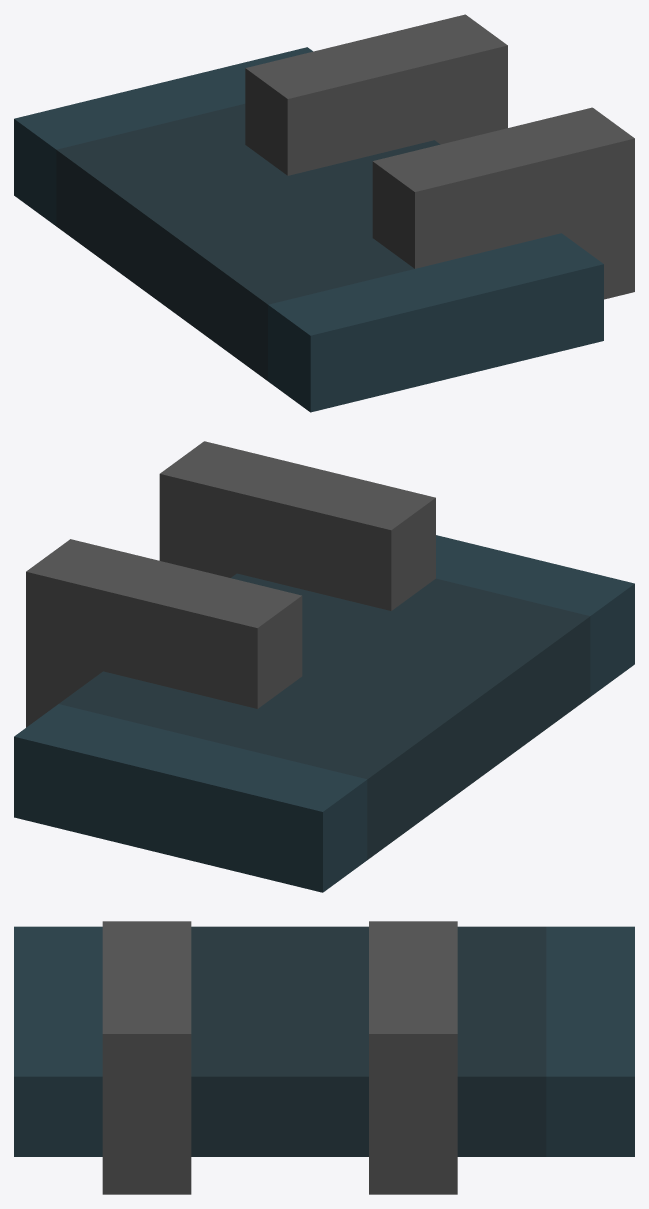
File: Extra-3-InfraredFurtive_Wing1_L.obj
The picture shows the model from 3 angles, top to bottom: view 1: azimuth 30°, elevation 25°; view 2: azimuth 150°, elevation 25°; view 3: azimuth 270°, elevation 25°; orthographic projection. The views are drawn at different scales.
Parts seen in each view (by area): view 1: InfraredFurtive_Wing1_L; view 2: InfraredFurtive_Wing1_L; view 3: InfraredFurtive_Wing1_L.
Boxes of the visible parts, left/top/right/bottom form: InfraredFurtive_Wing1_L: left=14, top=14, right=634, bottom=412; InfraredFurtive_Wing1_L: left=14, top=441, right=634, bottom=892; InfraredFurtive_Wing1_L: left=14, top=921, right=634, bottom=1194.
Bounding box in the file's own units: 0.5 × 0.2 × 0.7.
1 material, 1 textured.
